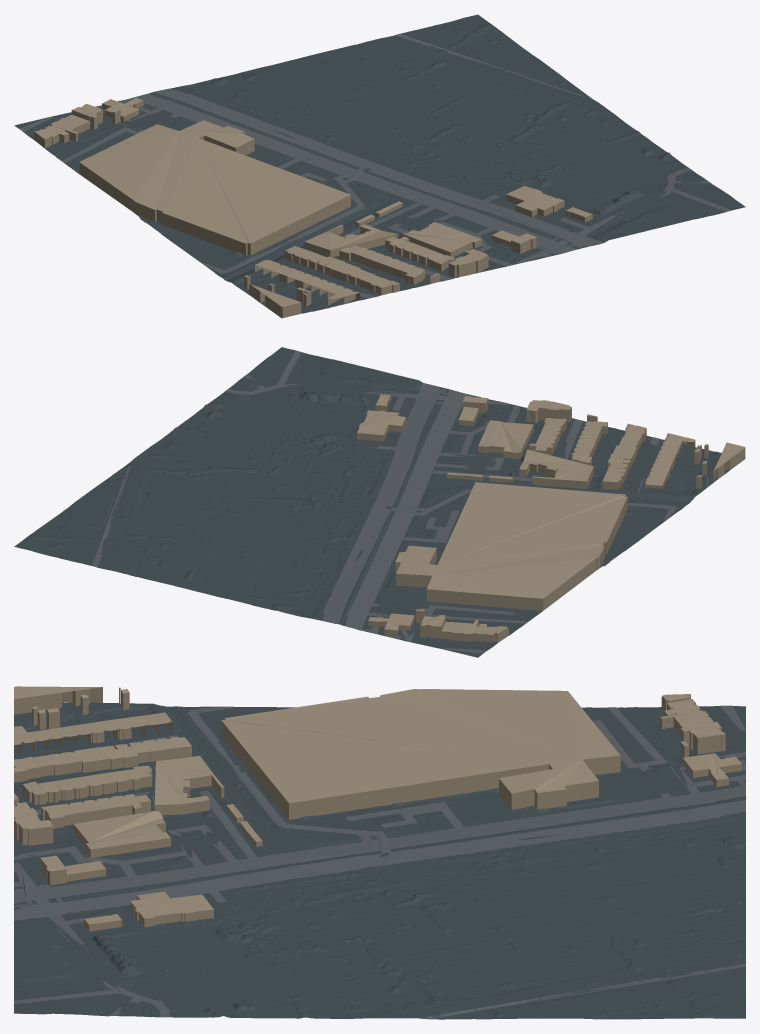
The model's file is epsg26910-1438-10868.lod0.glb.
The picture shows the model from 3 angles, top to bottom: view 1: azimuth 30°, elevation 25°; view 2: azimuth 150°, elevation 25°; view 3: azimuth 270°, elevation 25°; orthographic projection. The views are drawn at different scales.
Visible parts, largest first — view 1: epsg26910-1438-10868-lod0; view 2: epsg26910-1438-10868-lod0; view 3: epsg26910-1438-10868-lod0.
Boxes of the visible parts, x1=… form: epsg26910-1438-10868-lod0: x1=14, y1=14, x2=745, y2=318; epsg26910-1438-10868-lod0: x1=14, y1=347, x2=745, y2=657; epsg26910-1438-10868-lod0: x1=14, y1=686, x2=745, y2=1019.
Size of the model in its own units: 384 by 14.16 by 384.
